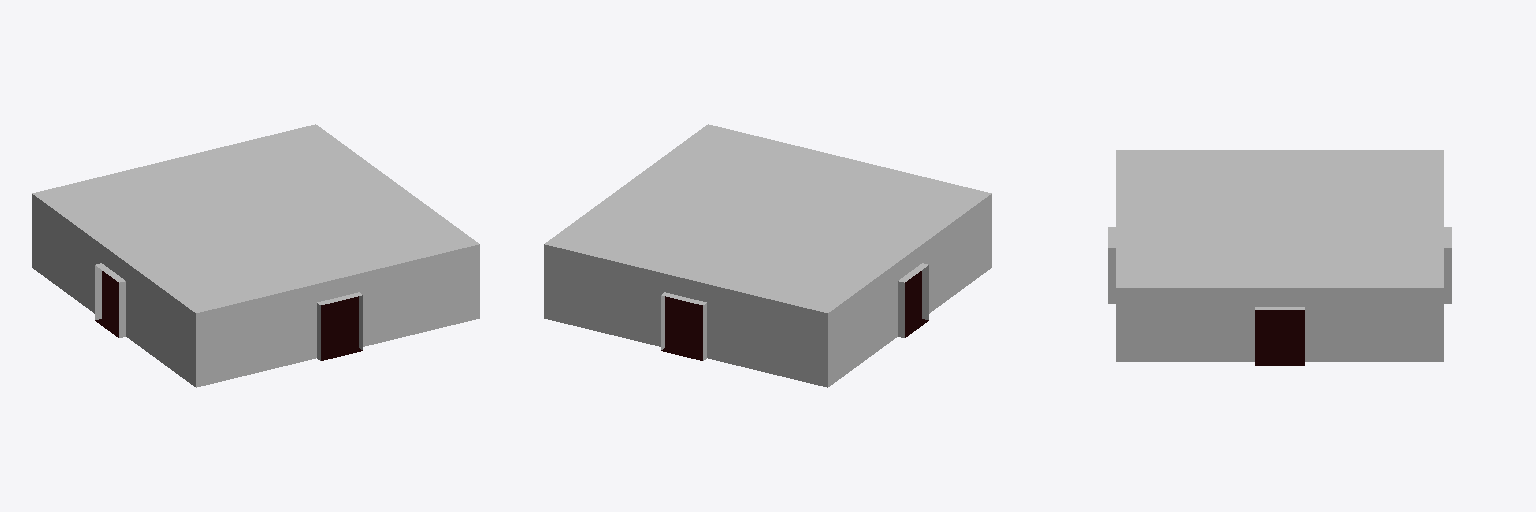
The model's file is room_prototype.obj.
The picture shows the model from 3 angles: view 1: azimuth 30°, elevation 25°; view 2: azimuth 150°, elevation 25°; view 3: azimuth 270°, elevation 25°; orthographic projection.
Parts seen in each view (by area): view 1: Cube; view 2: Cube; view 3: Cube.
Boxes of the visible parts, x1=… form: Cube: x1=32, y1=124, x2=479, y2=387; Cube: x1=544, y1=124, x2=991, y2=387; Cube: x1=1108, y1=150, x2=1451, y2=365.
Size of the model in its own units: 10.5 by 2.5 by 10.5.